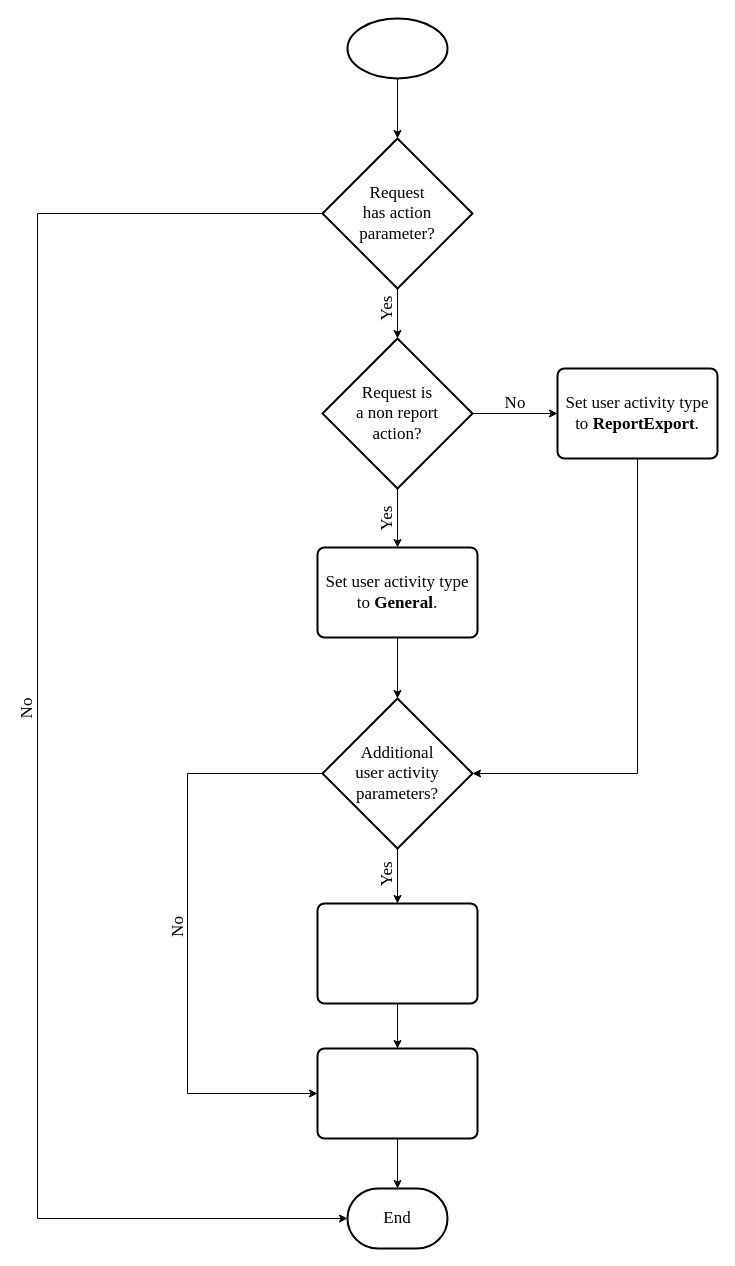
The diagram is 735 pixels wide and 1266 high, and some of its shapes have lost their labels. Here are the shapes that lost their labels. From the top down, the box of each, then its label:
(346, 17, 448, 79): Start
(316, 902, 478, 1004): Add additional parameters to ActivityParameters.
(316, 1047, 478, 1139): Complete event log data and store in database.
